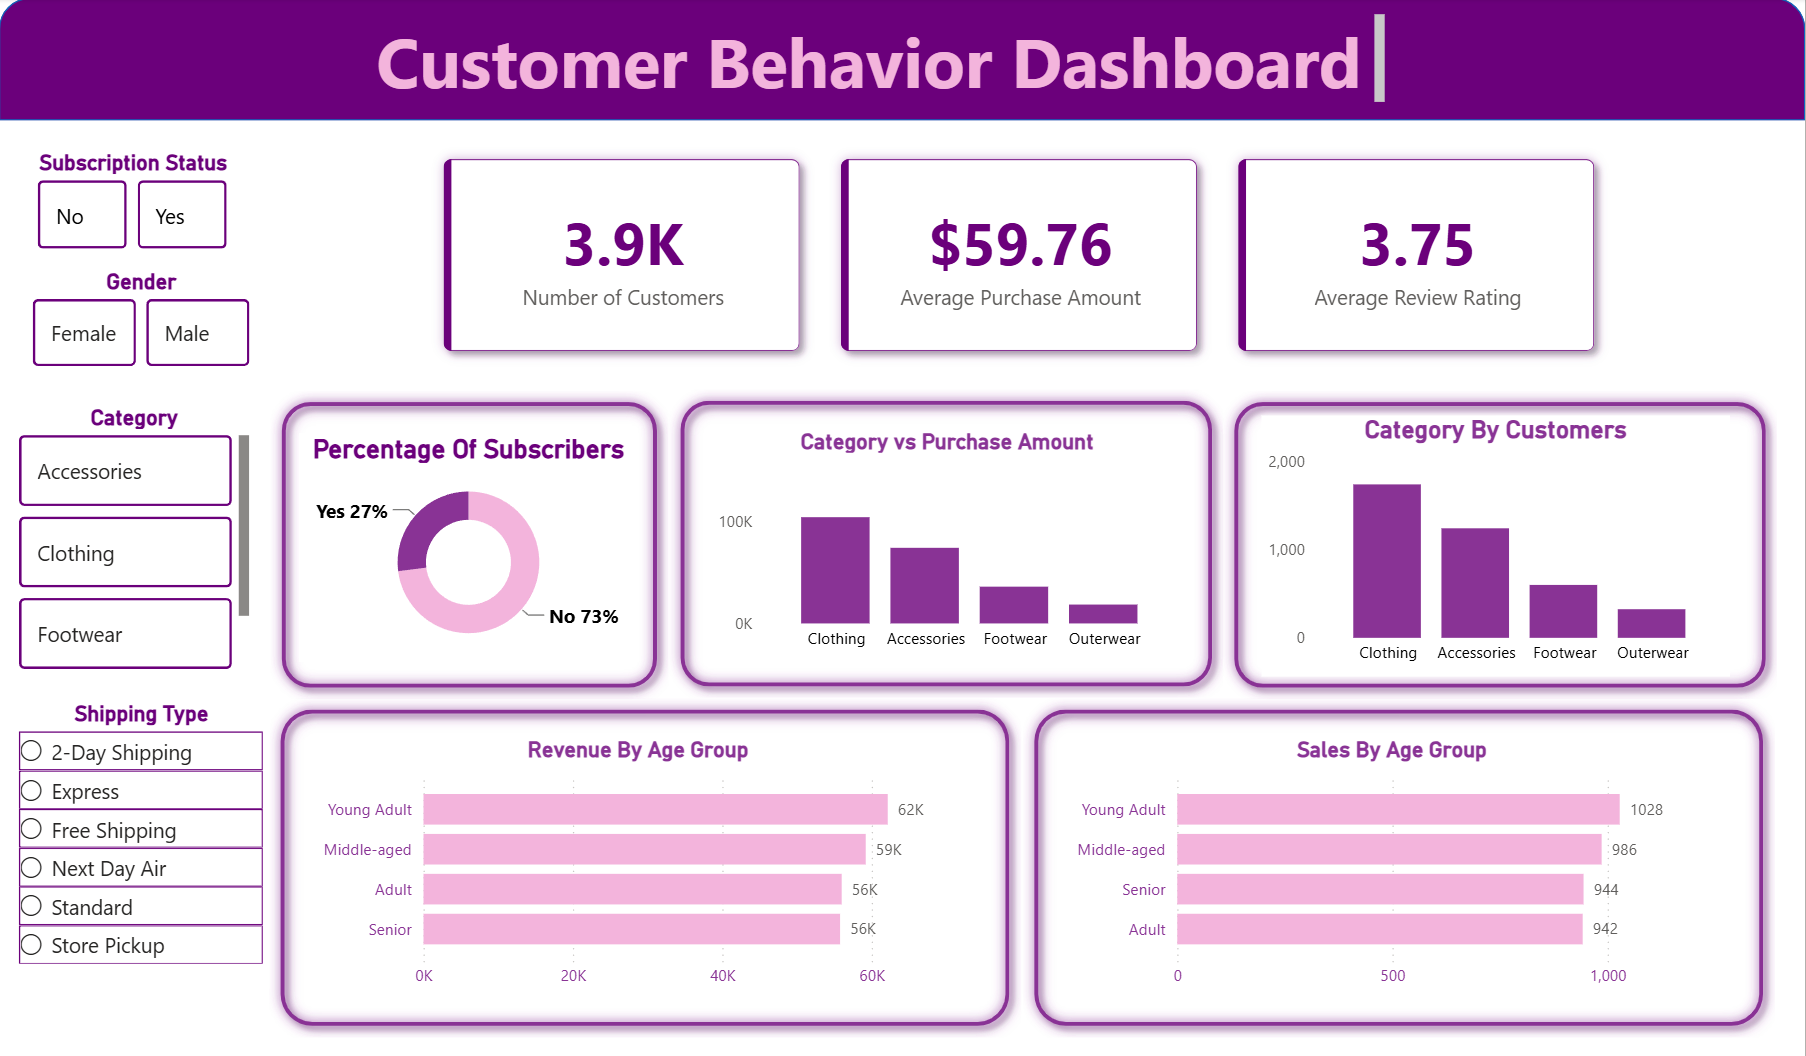

Layout of this report page (visuals, bound fields, positions):
{"tool":"powerbi","page":{"name":"Page 1","canvas":[1400,820],"ordinal":0},"visuals":[{"type":"shape","box":[209.5,543.1,582.8,263.1],"z":0},{"type":"shape","box":[210.5,303.8,308.8,239.3],"z":1000},{"type":"shape","box":[519.1,303.6,429.9,239.3],"z":2000},{"type":"cardVisual","fields":{"Data":["customers.Number of Customers","customers.Average Purchase Amount","customers.Average Review Rating"]},"box":[315.7,96.3,952.2,207.5],"z":3000},{"type":"shape","box":[0,0,1400.2,95],"z":4000},{"type":"textbox","box":[287.8,7.8,791.7,79.5],"z":5000},{"type":"donutChart","title":"Percentage Of Subscribers","fields":{"Category":["customers.subscription_status"],"Y":["CountNonNull(customers.customer_id)"]},"box":[232.3,337.6,263.1,177.7],"z":6000},{"type":"shape","box":[949,304.6,429.9,239.3],"z":7000},{"type":"clusteredColumnChart","title":"Category vs Purchase Amount","fields":{"Y":["Sum(customers.purchase_amount)"],"Category":["customers.category"]},"box":[551.9,333.4,365.4,181.7],"z":8000},{"type":"clusteredColumnChart","title":"Category By Customers","fields":{"Category":["customers.category"],"Y":["CountNonNull(customers.customer_id)"]},"box":[978.8,323.5,363.4,202.6],"z":9000},{"type":"advancedSlicerVisual","fields":{"Values":["customers.subscription_status"]},"box":[24.8,117.2,157.9,82.4],"z":10000},{"type":"advancedSlicerVisual","fields":{"Values":["customers.gender"]},"box":[21.3,209.3,178.3,81.4],"z":11000},{"type":"advancedSlicerVisual","fields":{"Values":["customers.category"]},"box":[10.9,314.8,188.7,211.5],"z":12000},{"type":"listSlicer","fields":{"Values":["customers.shipping_type"]},"box":[10.9,544.1,199.6,223.4],"z":13000},{"type":"clusteredBarChart","title":"Revenue By Age Group","fields":{"Category":["customers.age_group"],"Y":["Sum(customers.purchase_amount)"]},"box":[241.3,572.9,508.4,203.5],"z":14000},{"type":"shape","box":[793.8,542.8,582.8,263.1],"z":15000},{"type":"clusteredBarChart","title":"Sales By Age Group","fields":{"Category":["customers.age_group"],"Y":["CountNonNull(customers.customer_id)"]},"box":[825.6,572.6,508.4,203.5],"z":16000}]}

Visuals, with their boxes in screenshot pixels (x1, y1, x2, y2), scaled from the page's 1400x820 canvas onto the 1806x1056 screenshot:
shape: l=270, t=699, r=1022, b=1038
shape: l=272, t=391, r=670, b=699
shape: l=670, t=391, r=1224, b=699
cardVisual - customers.Number of Customers x customers.Average Purchase Amount: l=407, t=124, r=1636, b=391
shape: l=0, t=0, r=1805, b=122
textbox: l=371, t=10, r=1393, b=112
"Percentage Of Subscribers" donutChart: l=300, t=435, r=639, b=664
shape: l=1224, t=392, r=1779, b=700
"Category vs Purchase Amount" clusteredColumnChart: l=712, t=429, r=1183, b=663
"Category By Customers" clusteredColumnChart: l=1263, t=417, r=1731, b=678
advancedSlicerVisual - customers.subscription_status: l=32, t=151, r=236, b=257
advancedSlicerVisual - customers.gender: l=27, t=270, r=257, b=374
advancedSlicerVisual - customers.category: l=14, t=405, r=257, b=678
listSlicer - customers.shipping_type: l=14, t=701, r=272, b=988
"Revenue By Age Group" clusteredBarChart: l=311, t=738, r=967, b=1000
shape: l=1024, t=699, r=1776, b=1038
"Sales By Age Group" clusteredBarChart: l=1065, t=737, r=1721, b=999
